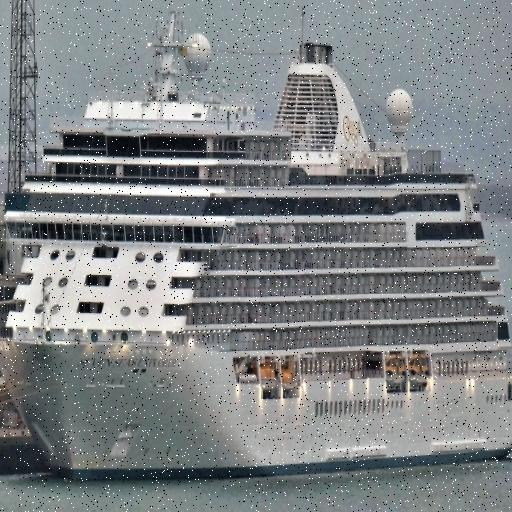cruises: (1, 1, 512, 491)
